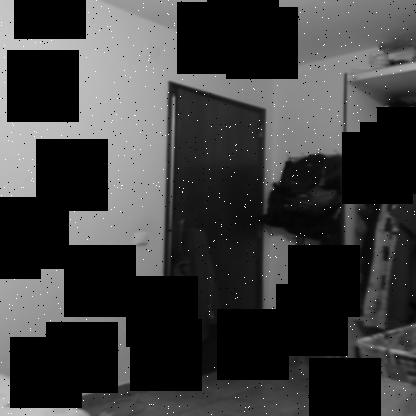Porte: (156, 77, 270, 389)
